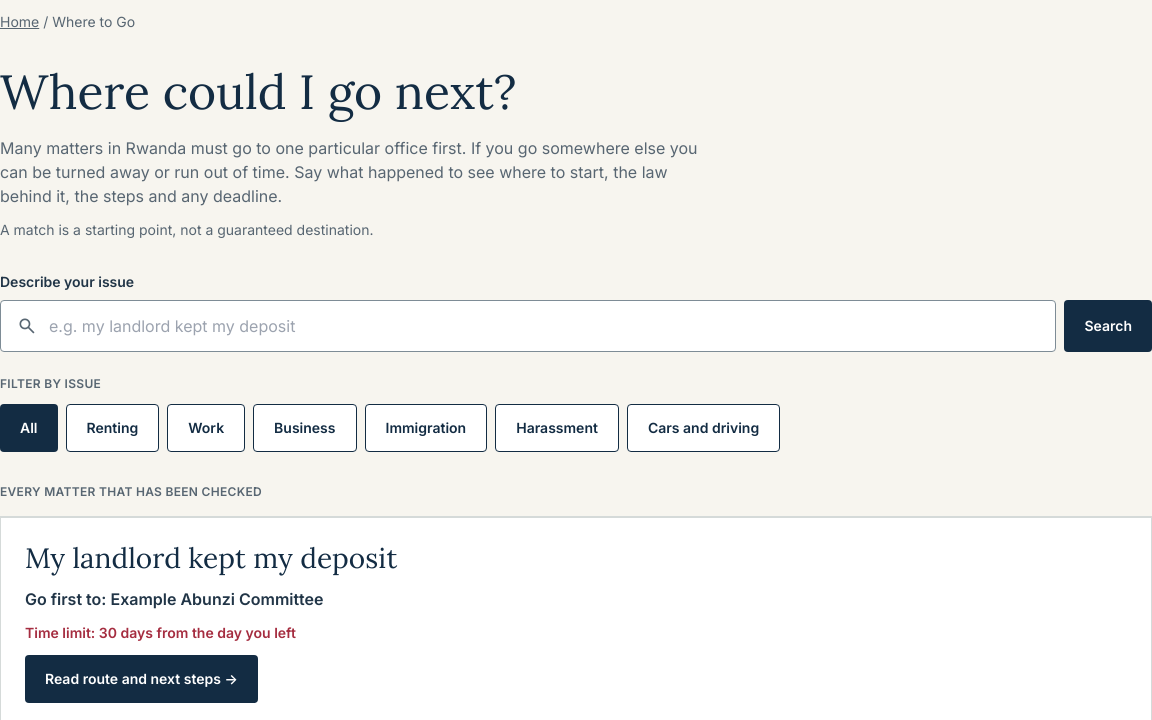
Test: Where to go › words the heading and the empty answer for an area chosen without any search words
The image size is (1152, 720).
expect the heading "My landlord kept my deposit" is shown: met, box [25,540,397,576]
Click the button "Renting" at (112, 428), box [66,404,159,452]
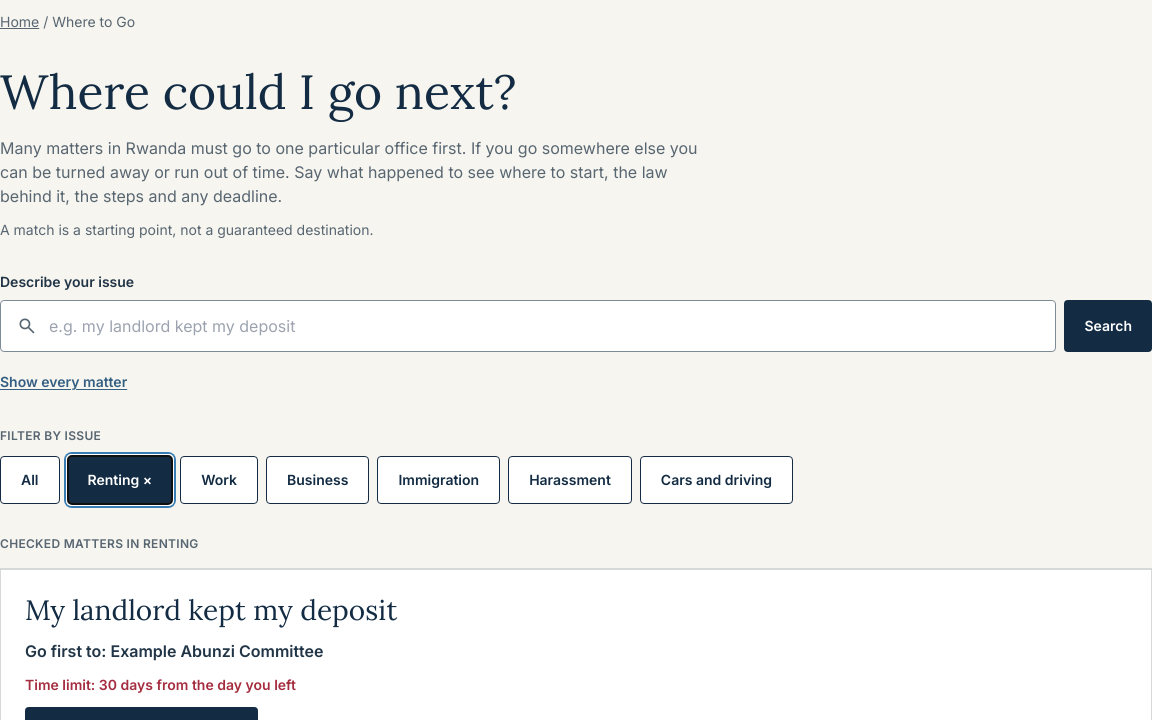
expect the heading "Checked matters in Renting" is shown: met, box [0,536,199,551]
Click the button "Work" at (219, 480), box [180,456,258,504]
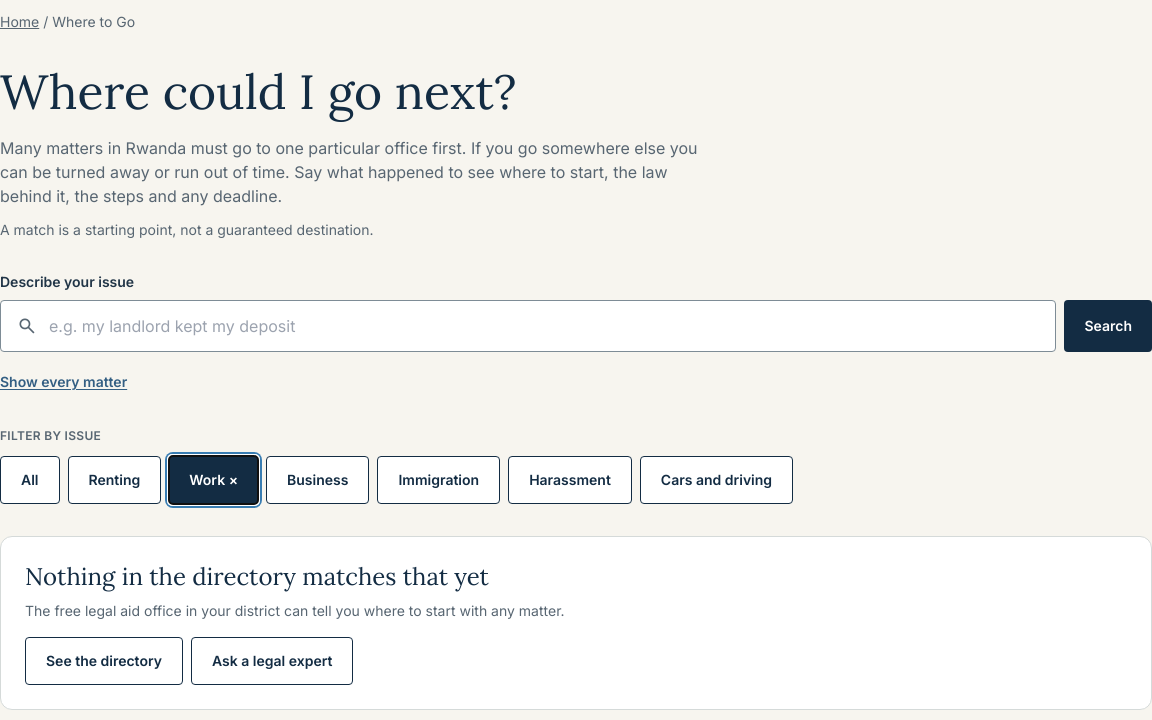
expect the heading "Nothing in the directory matches that yet" is shown: met, box [25,561,489,592]
